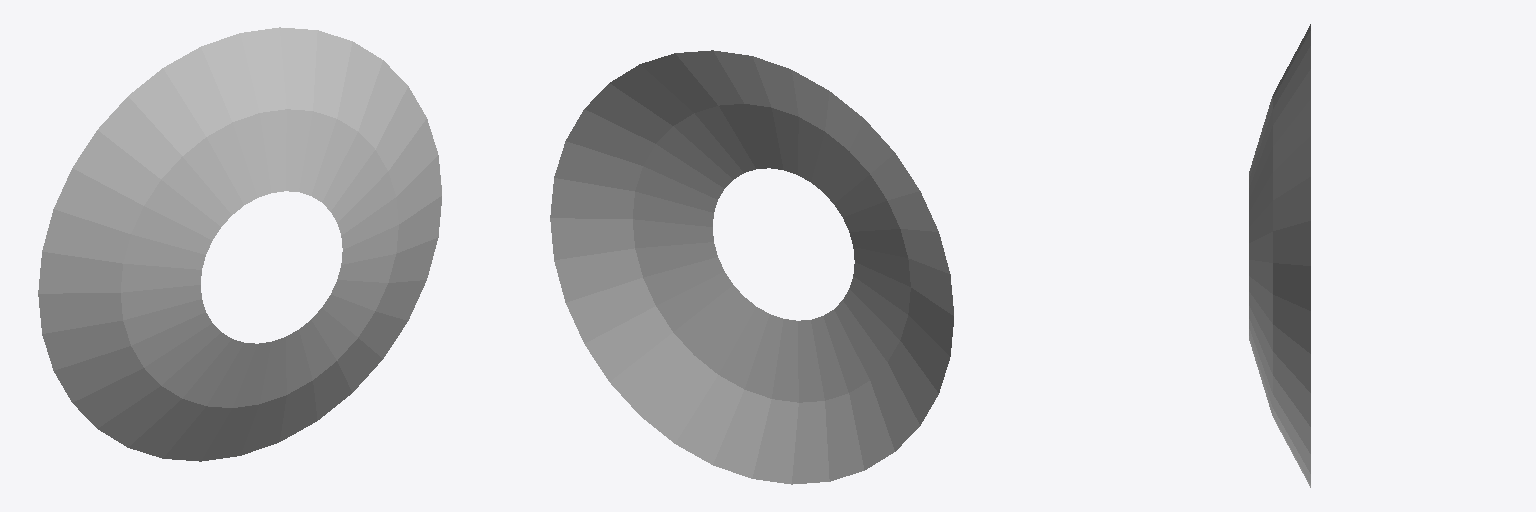
Rendered from glumb_eye2.obj.
3 views of the same model, side by side, from view 1: azimuth 30°, elevation 25°; view 2: azimuth 150°, elevation 25°; view 3: azimuth 270°, elevation 25° (orthographic).
Visible parts, largest first — view 1: Eye.001_Sphere.004; view 2: Eye.001_Sphere.004; view 3: Eye.001_Sphere.004.
Part boxes in pixels (left/top/right/bottom): Eye.001_Sphere.004: left=38, top=27, right=441, bottom=461; Eye.001_Sphere.004: left=550, top=50, right=953, bottom=484; Eye.001_Sphere.004: left=1249, top=24, right=1310, bottom=487.
Size of the model in its own units: 0.7125 by 0.7125 by 0.0957.